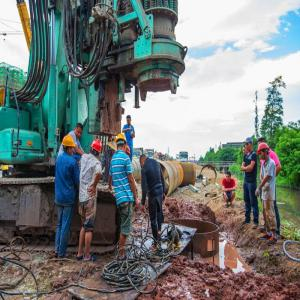blue: (246, 138, 254, 154)
none: (75, 123, 85, 141), (140, 152, 149, 169), (127, 114, 134, 126), (226, 172, 233, 183)
red: (91, 139, 104, 161), (258, 143, 271, 164)
yellow: (62, 134, 76, 156), (116, 133, 129, 155)
